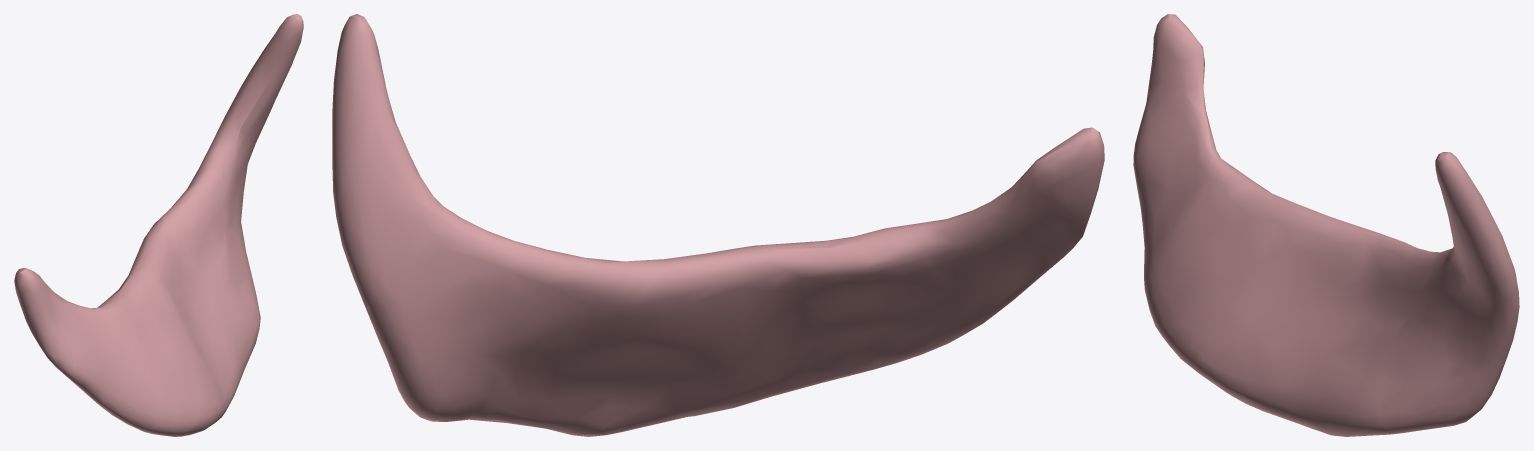
Rendered from fma9240_mm463.glb.
3 renders of one model, left to right at view 1: azimuth 30°, elevation 25°; view 2: azimuth 150°, elevation 25°; view 3: azimuth 270°, elevation 25°, orthographic. The views are drawn at different scales.
Visible parts, largest first — view 1: FMA9240_MM463; view 2: FMA9240_MM463; view 3: FMA9240_MM463.
Boxes of the visible parts, x1=… form: FMA9240_MM463: x1=14, y1=14, x2=303, y2=436; FMA9240_MM463: x1=332, y1=14, x2=1104, y2=436; FMA9240_MM463: x1=1133, y1=14, x2=1519, y2=436.
Size of the model in its own units: 0.0357 by 0.0252 by 0.0255.
